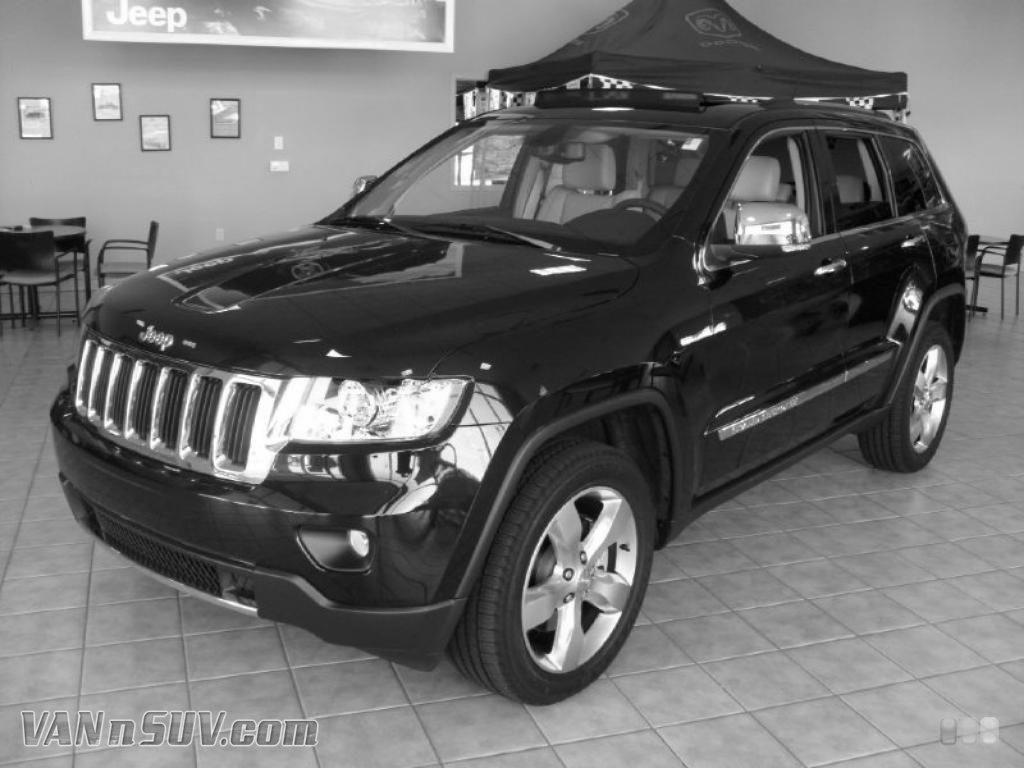car: (47, 107, 973, 711)
